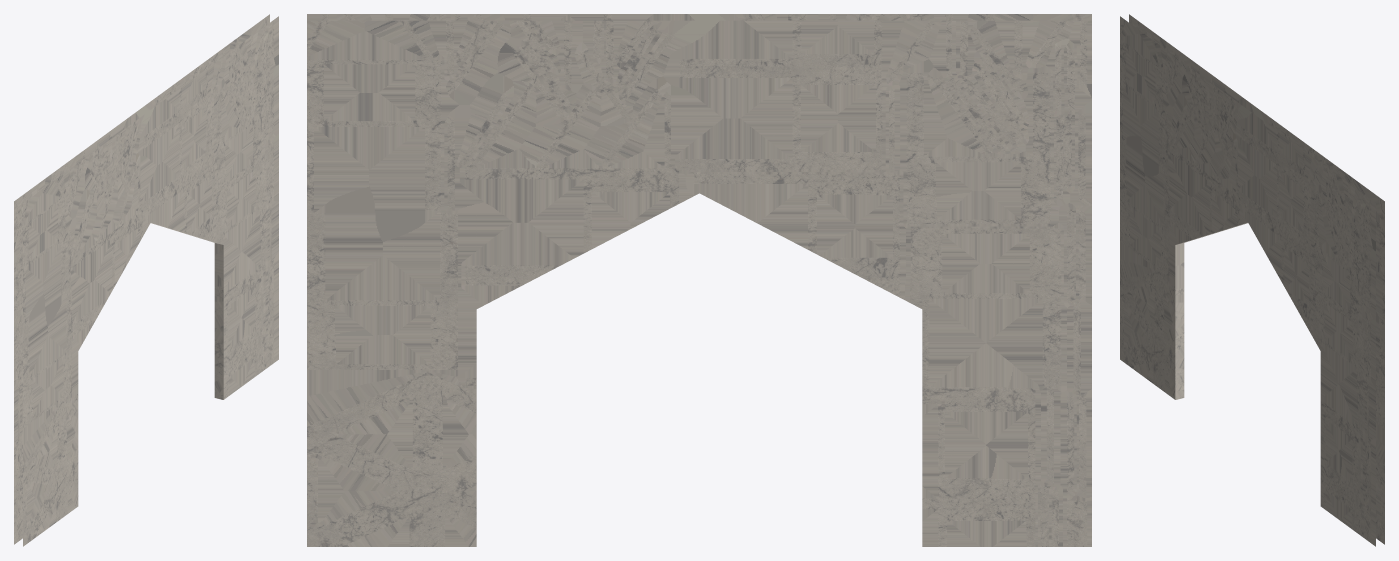
Rendered from LoungeDoorWall.fbx.
The picture shows the model from 3 angles, left to right: view 1: azimuth 30°, elevation 25°; view 2: azimuth 150°, elevation 25°; view 3: azimuth 270°, elevation 25°; orthographic projection. The views are drawn at different scales.
Visible parts, largest first — view 1: Lounge_wall_door; view 2: Lounge_wall_door; view 3: Lounge_wall_door.
Part boxes in pixels (bbox=[...]): Lounge_wall_door: bbox=[14, 14, 278, 546]; Lounge_wall_door: bbox=[307, 14, 1091, 546]; Lounge_wall_door: bbox=[1120, 14, 1384, 546].
Size of the model in its own units: 682 by 577 by 403.
